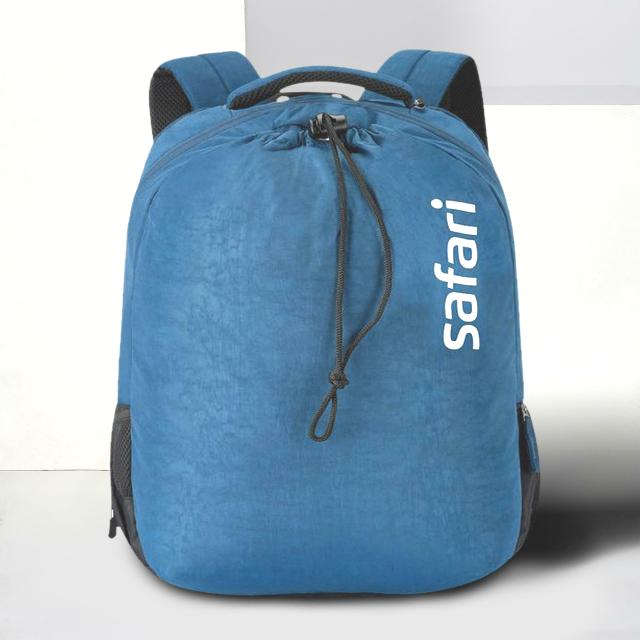backpack: (109, 49, 543, 598)
